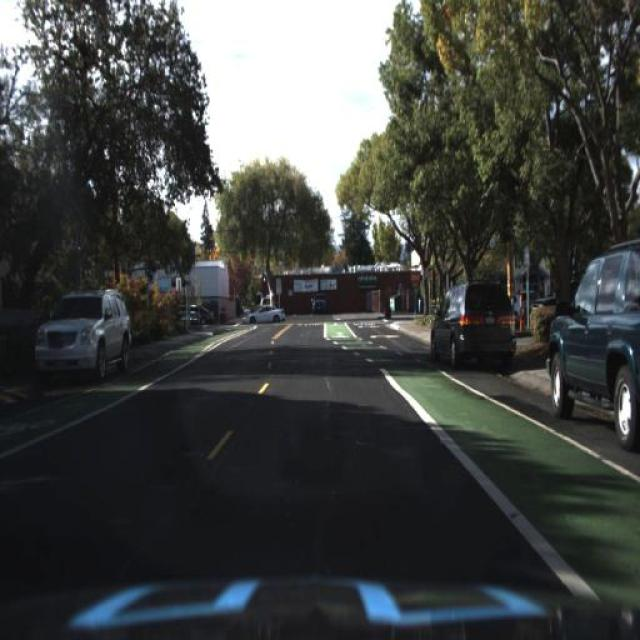car: (544, 240, 640, 454), (31, 286, 133, 386), (426, 271, 519, 379), (180, 300, 220, 330), (245, 302, 289, 326), (243, 306, 283, 329), (307, 291, 328, 324), (312, 292, 332, 316)
